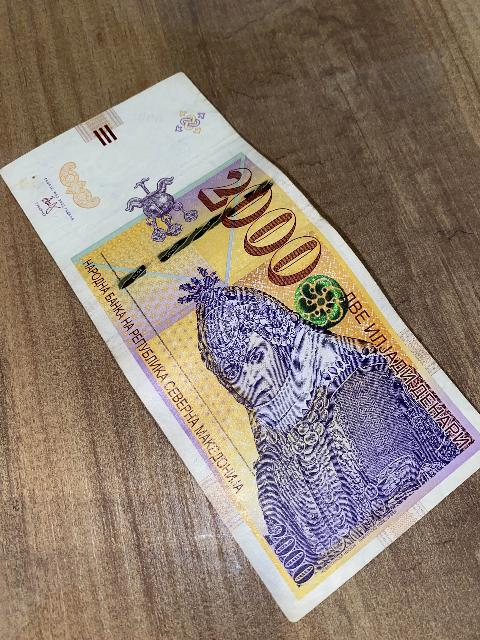2000_note: (2, 74, 479, 620)
